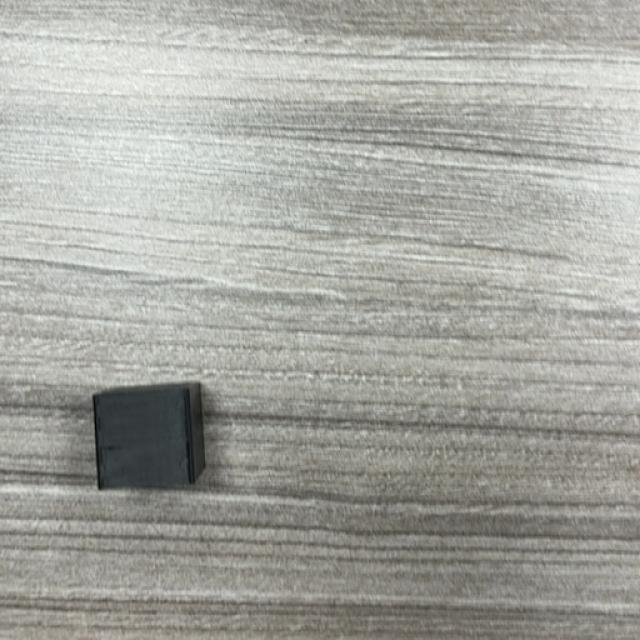Negro: (91, 382, 208, 491)
